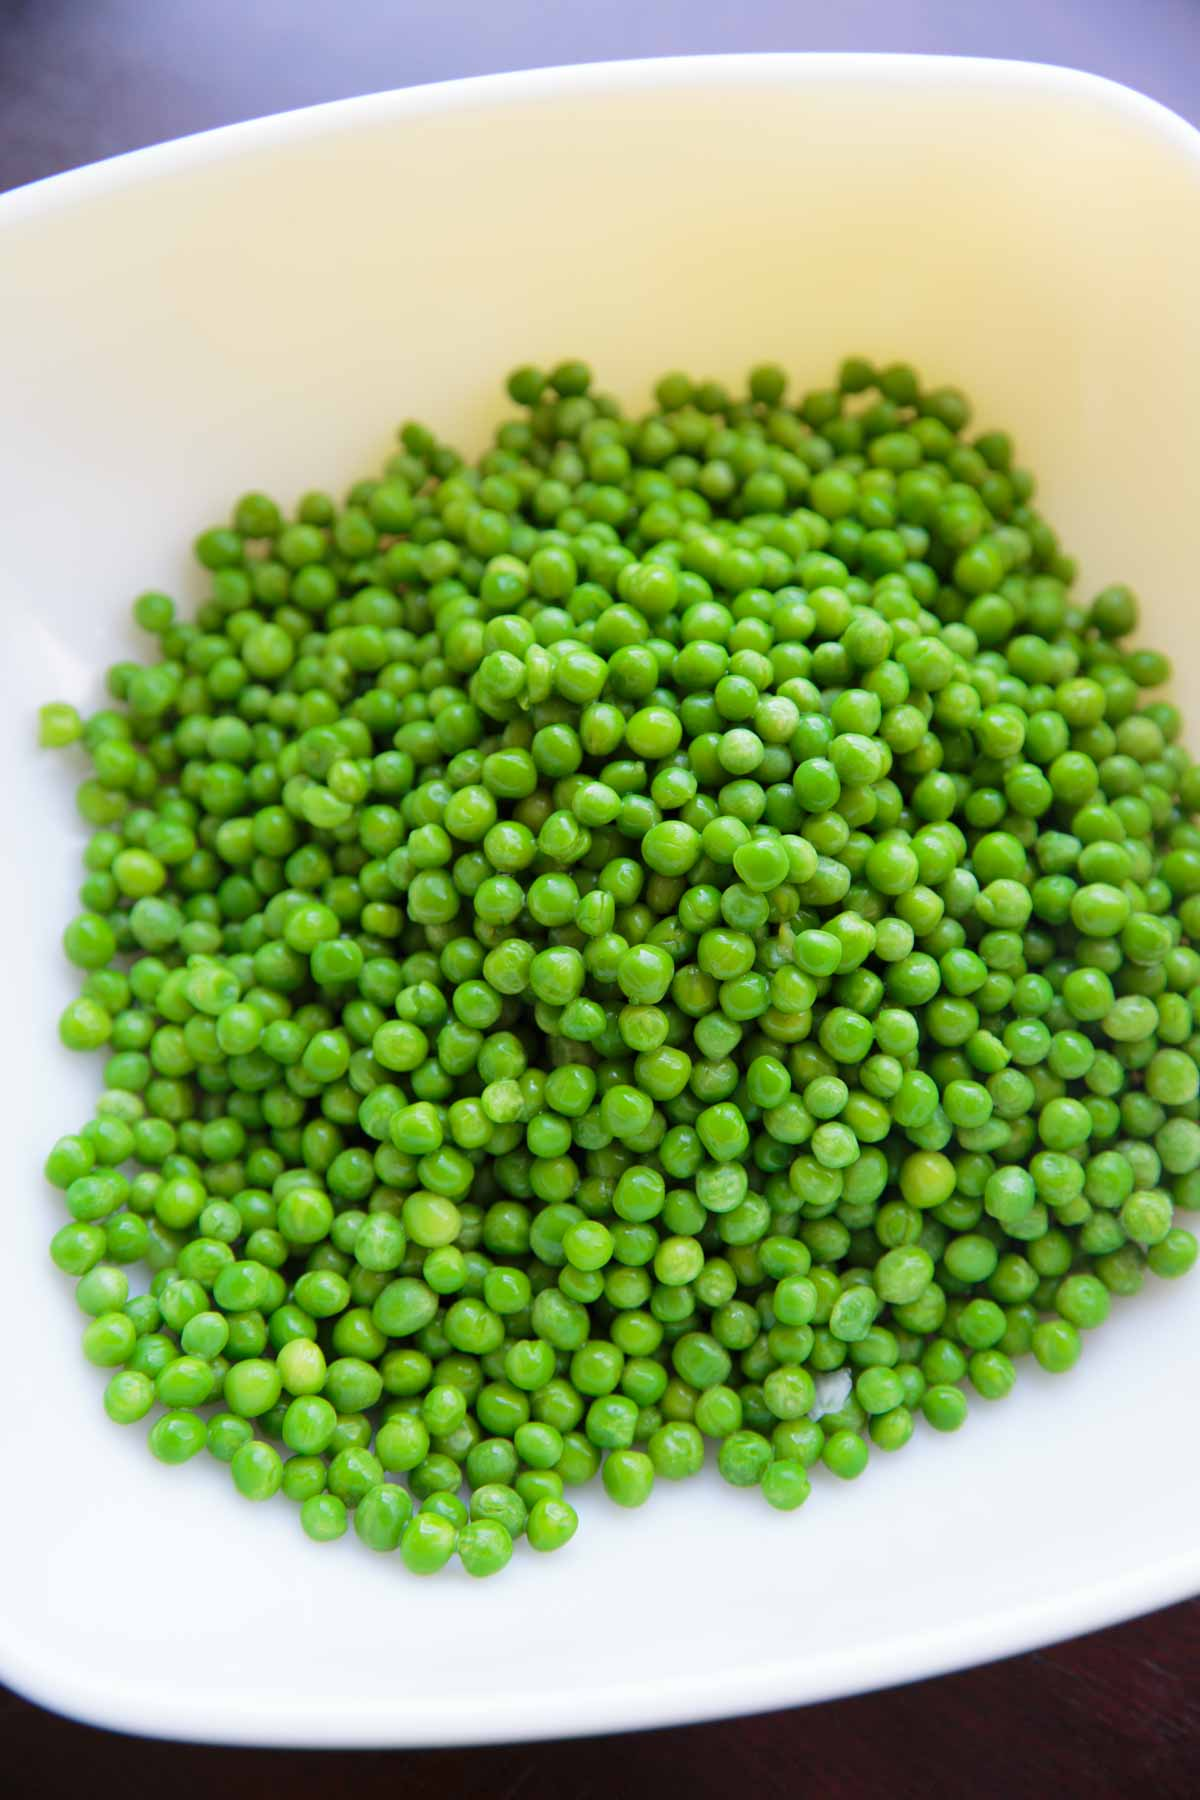boiled peas: (214, 500, 1049, 1333)
